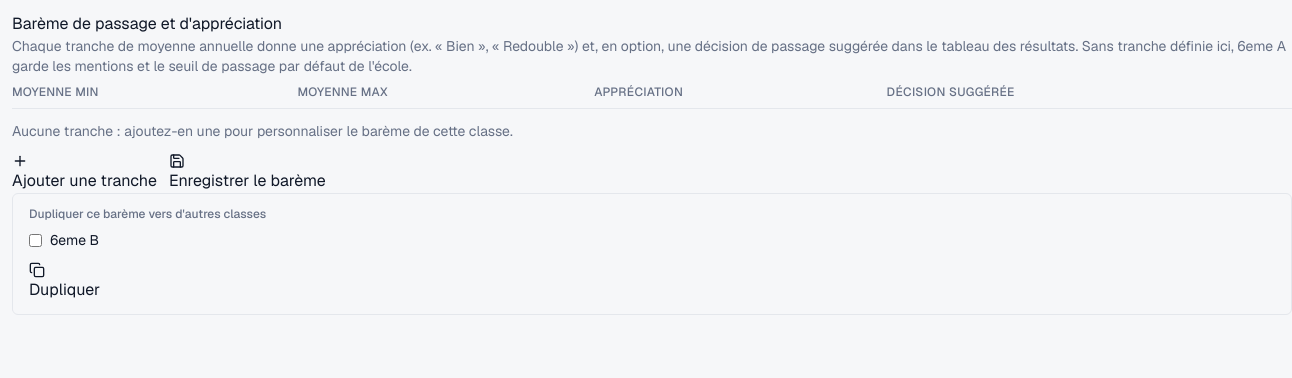
Test: GradeScaleCard › duplicates the scale to the classes selected
Expected: the text "Aucune tranche" is shown, x1=12 y1=122 x2=513 y2=140
What coordinates should you click on to do the following:
click the checkbox labelled "6eme B"
I would click on:
 (36, 240)
Its box is x1=29 y1=234 x2=42 y2=246.
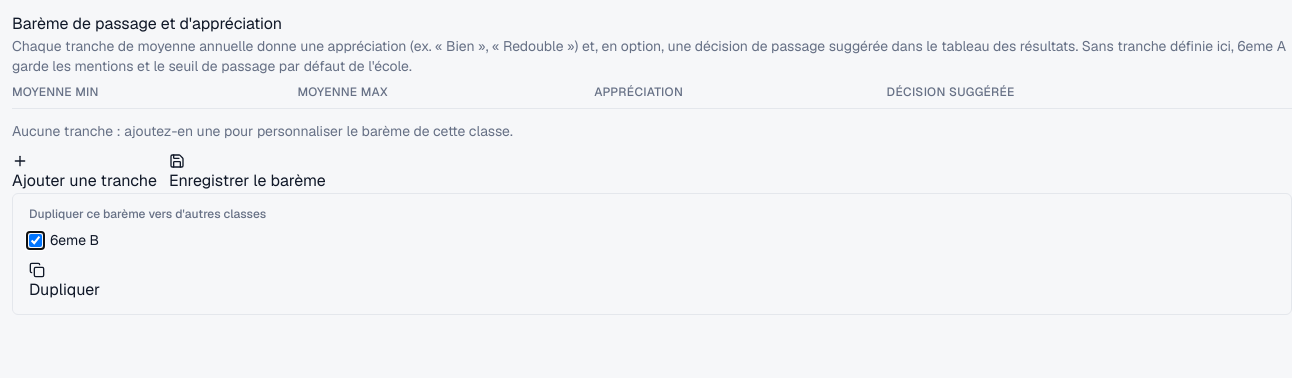
What coordinates should you click on to do the following:
click the button "Dupliquer"
I would click on:
 (65, 282)
Its box is x1=29 y1=262 x2=100 y2=302.
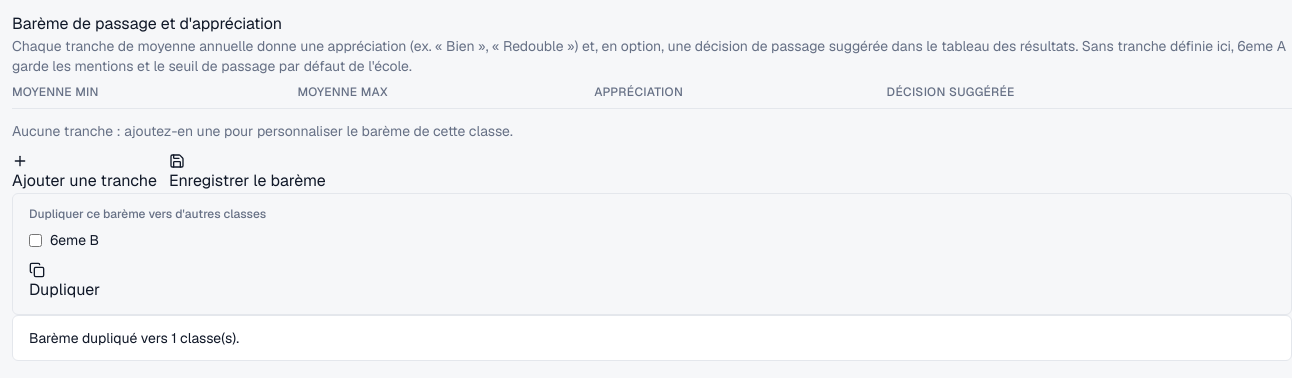
Now the message shows "1 classe(s)", box x1=29 y1=329 x2=239 y2=347
